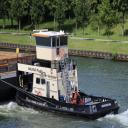tugboat: (15, 29, 121, 125)
